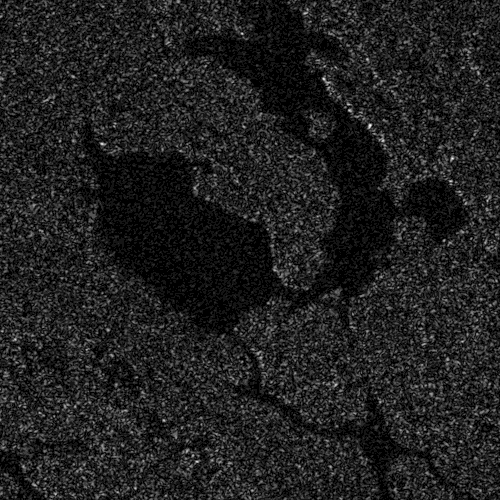anomaly: (50, 67, 473, 339)
